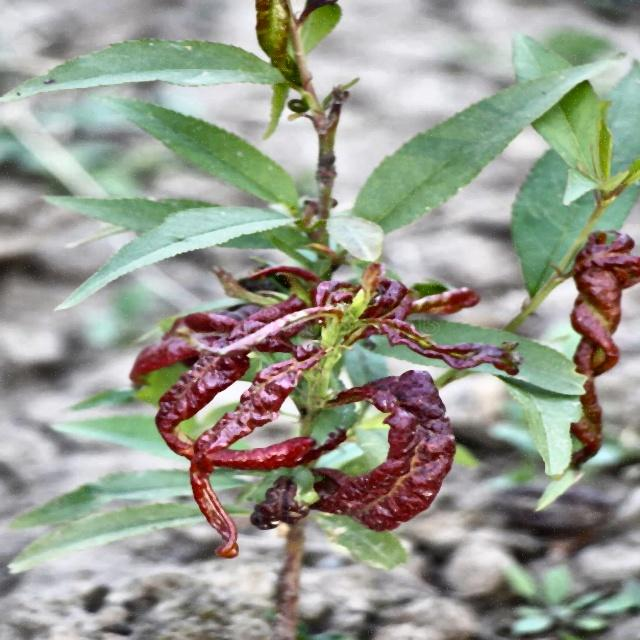leaf_curl: (32, 267, 344, 607), (496, 205, 640, 545), (328, 269, 471, 609)
